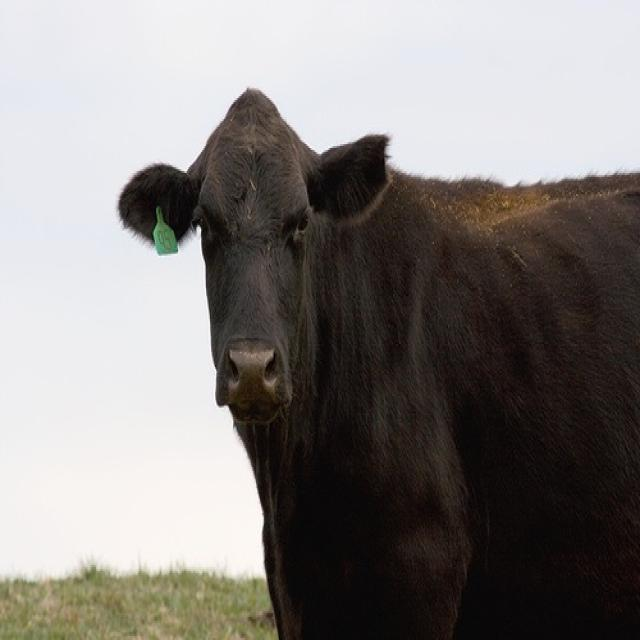cow: (110, 73, 639, 634)
